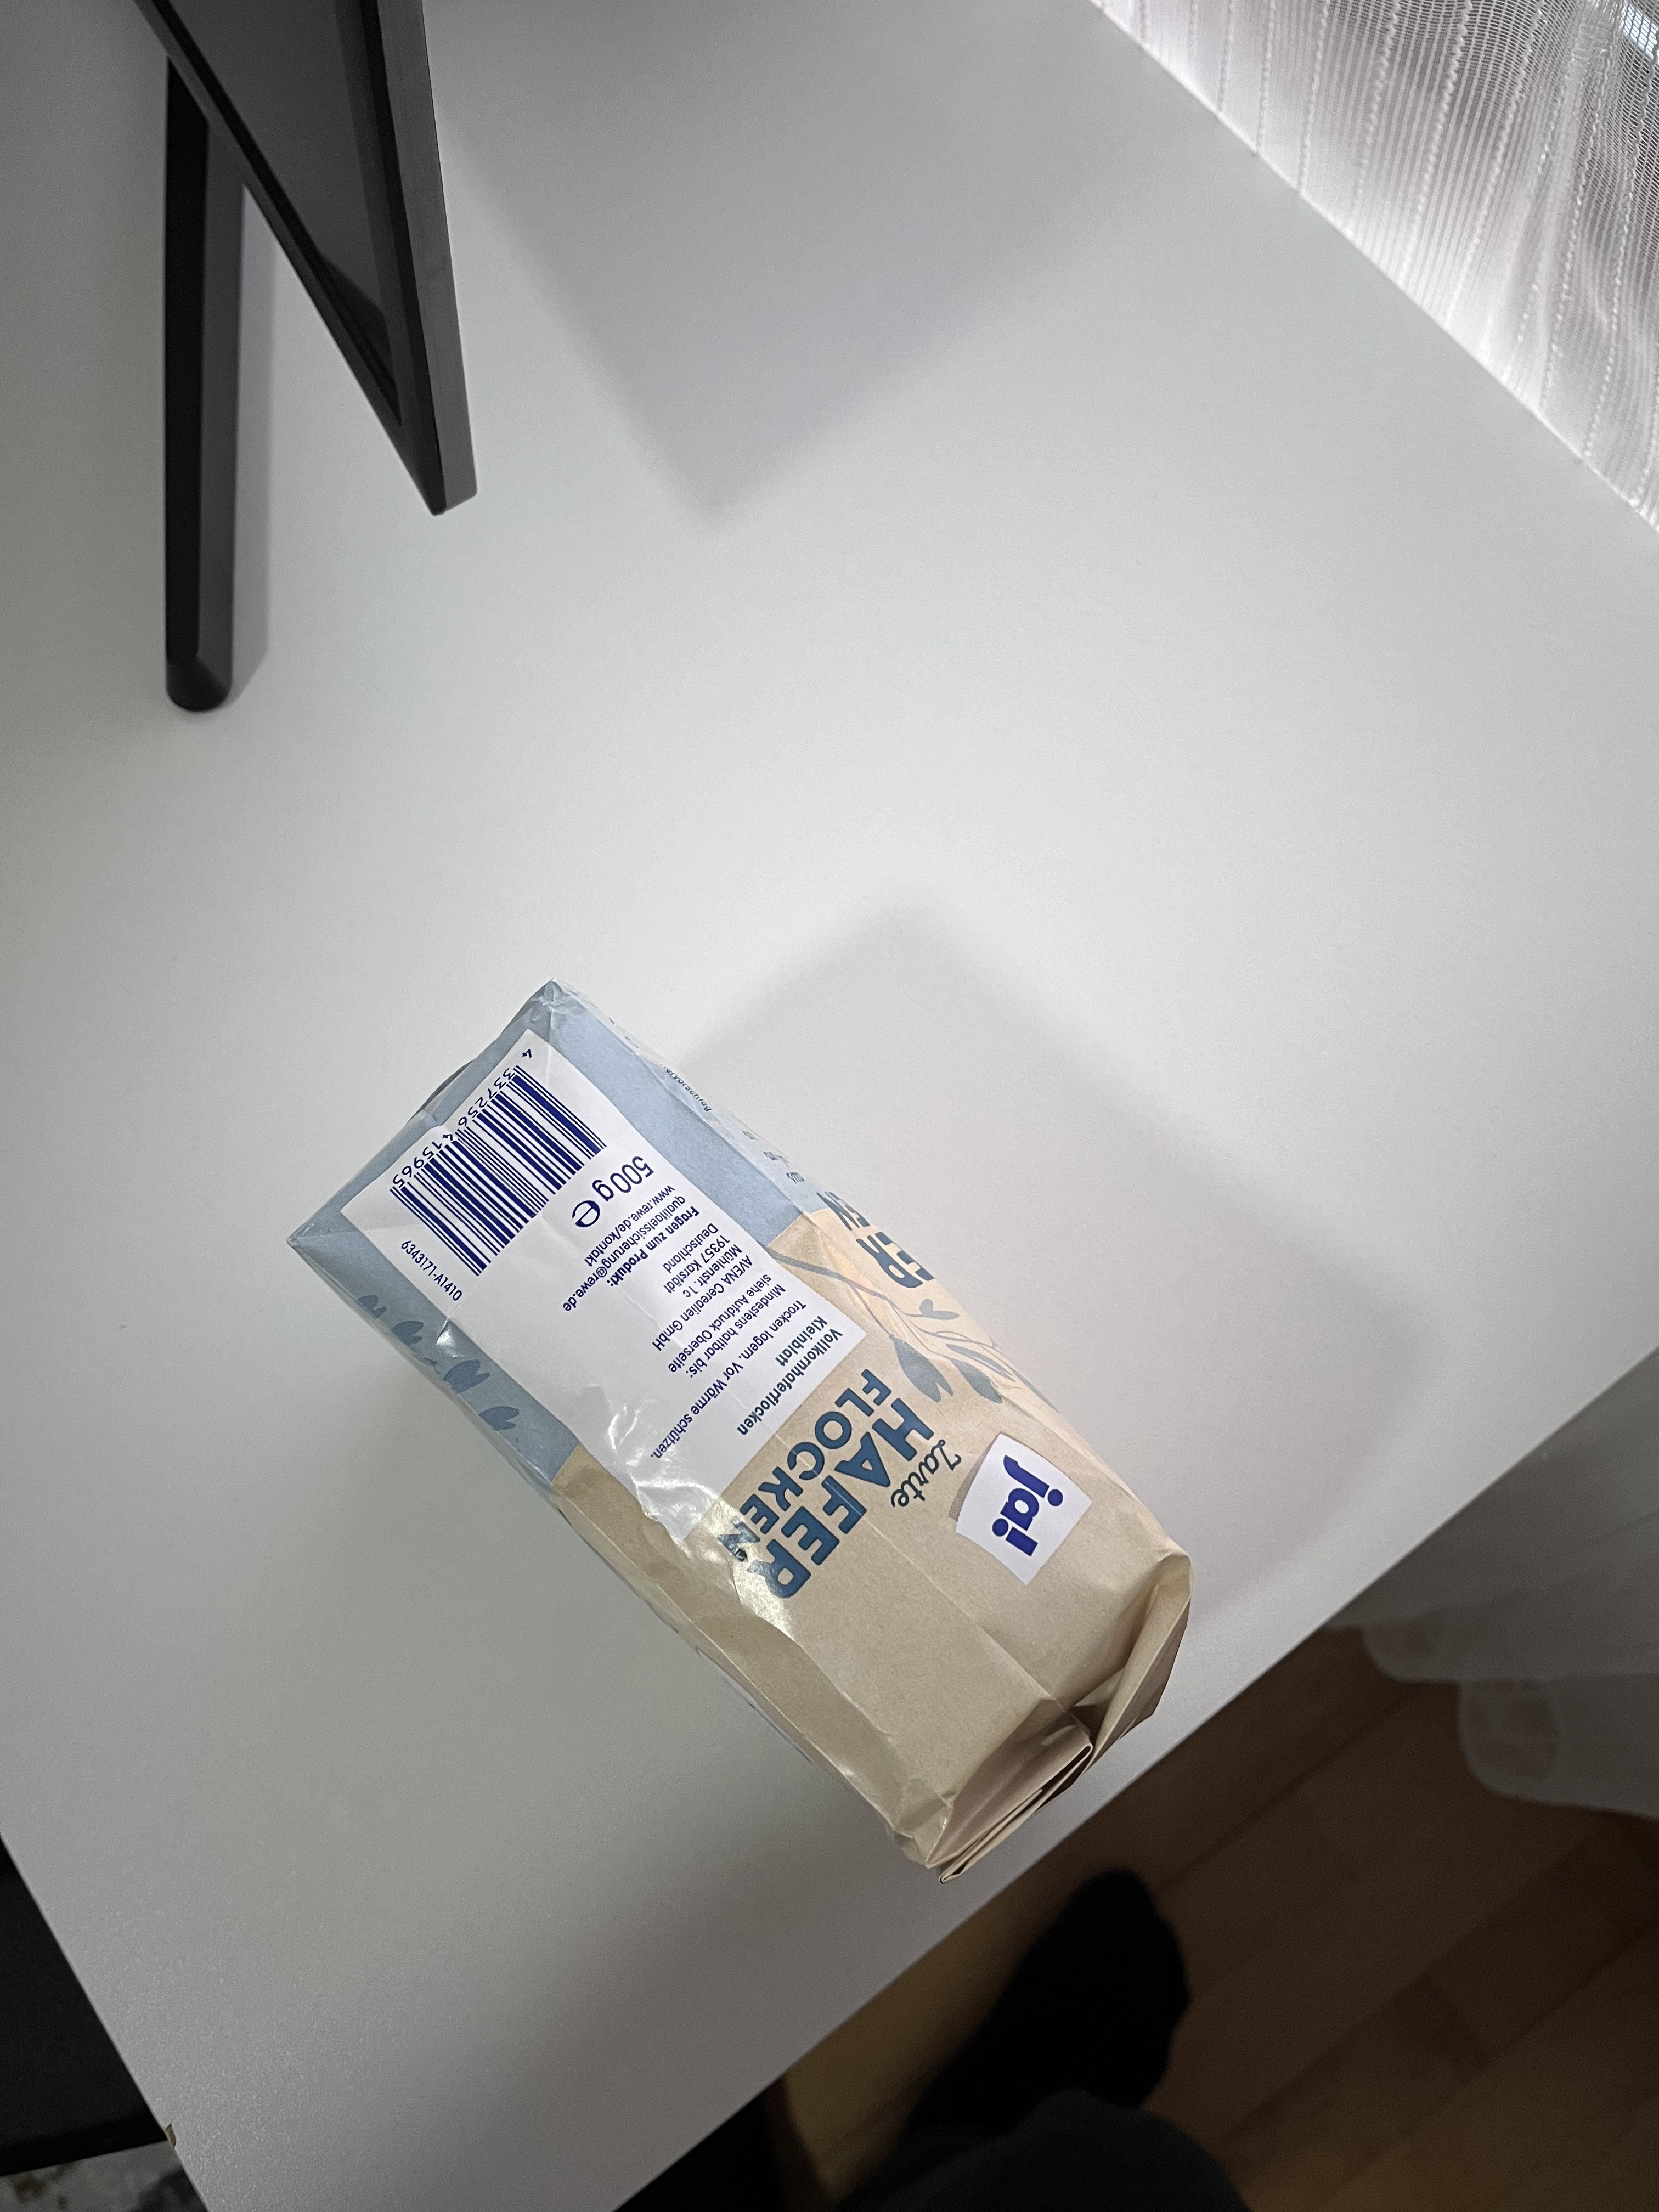haferflocken_ja: (289, 984, 1190, 1885)
